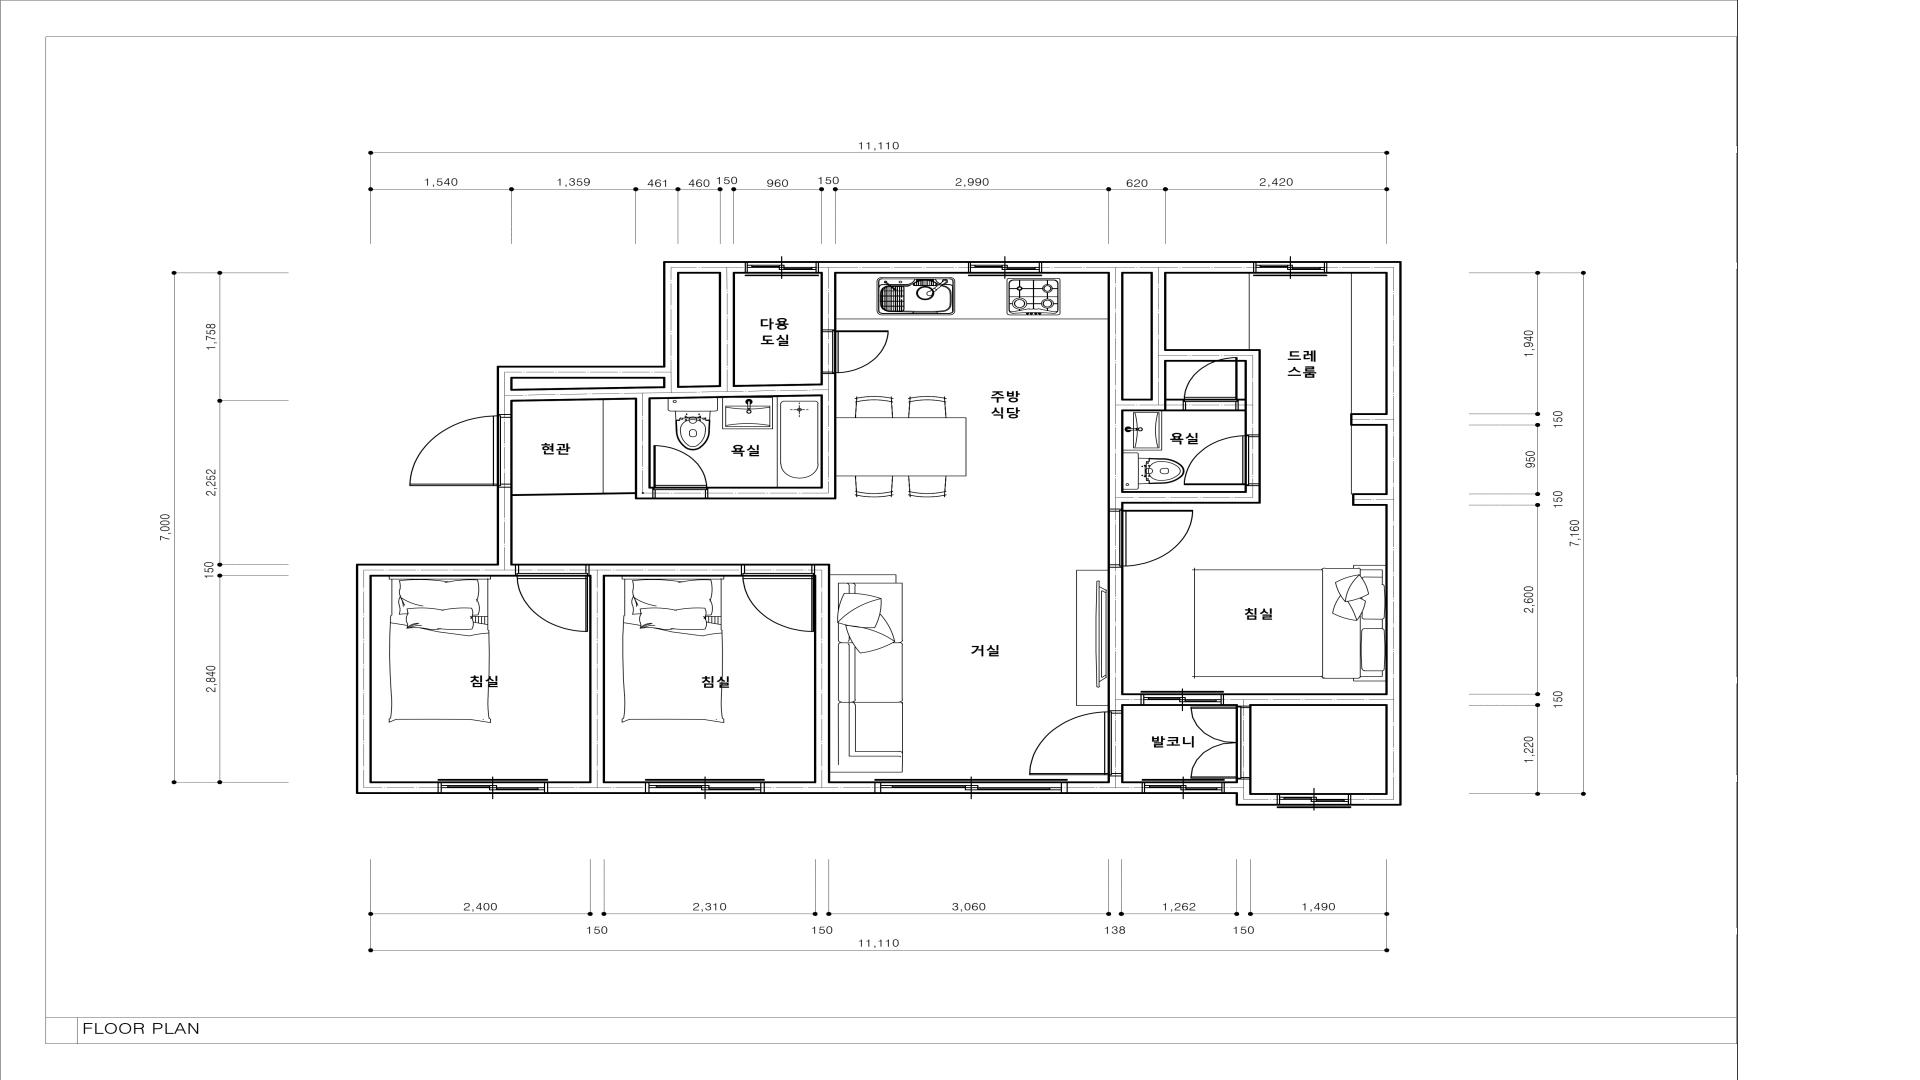door: (407, 414, 513, 488), (1029, 711, 1124, 777), (1108, 508, 1193, 568), (740, 563, 814, 633), (514, 564, 589, 633), (1189, 705, 1251, 779), (1183, 434, 1261, 487), (820, 330, 890, 375), (653, 444, 708, 500), (1183, 363, 1238, 411)
wall: (1386, 261, 1402, 793), (513, 384, 820, 402), (814, 563, 831, 781), (1108, 274, 1124, 509), (356, 576, 372, 794), (589, 576, 605, 781), (1042, 261, 1253, 274), (1108, 568, 1124, 711), (497, 365, 663, 378), (1150, 274, 1167, 398), (356, 563, 514, 576), (589, 563, 741, 576), (820, 375, 836, 500), (819, 261, 968, 274), (1224, 694, 1385, 705), (634, 400, 653, 500), (1124, 491, 1261, 504), (719, 274, 735, 385), (663, 274, 679, 378), (708, 487, 820, 500), (765, 781, 874, 794), (496, 488, 513, 563), (549, 781, 645, 794), (1225, 782, 1276, 806), (1245, 361, 1261, 434), (1167, 349, 1261, 361), (663, 261, 745, 274), (1068, 782, 1142, 794), (372, 781, 438, 794), (1124, 398, 1183, 411), (1328, 261, 1385, 274), (1352, 793, 1402, 806), (497, 378, 513, 414), (1350, 413, 1385, 426), (1352, 493, 1385, 506), (1124, 694, 1141, 705), (663, 378, 679, 386), (1238, 398, 1245, 411), (1245, 487, 1261, 491), (1236, 779, 1251, 782)
window: (874, 781, 1068, 794), (645, 781, 765, 794), (438, 781, 549, 794), (1142, 781, 1225, 794), (1276, 793, 1352, 806), (1253, 261, 1328, 274), (1141, 694, 1224, 705), (968, 261, 1042, 274), (745, 261, 819, 274)
